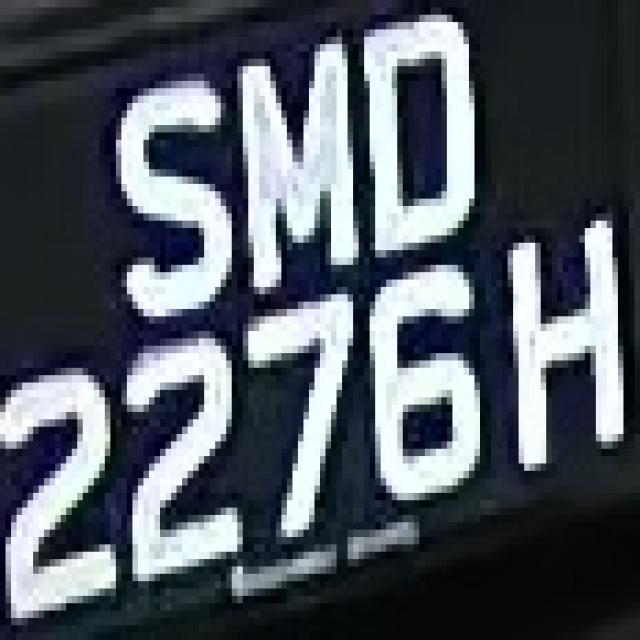2: (116, 309, 259, 611), (5, 338, 116, 640)
6: (342, 250, 486, 522)
7: (237, 280, 353, 544)
D: (353, 14, 480, 258)
H: (497, 198, 629, 471)
M: (220, 44, 370, 302)
S: (105, 66, 243, 294)
